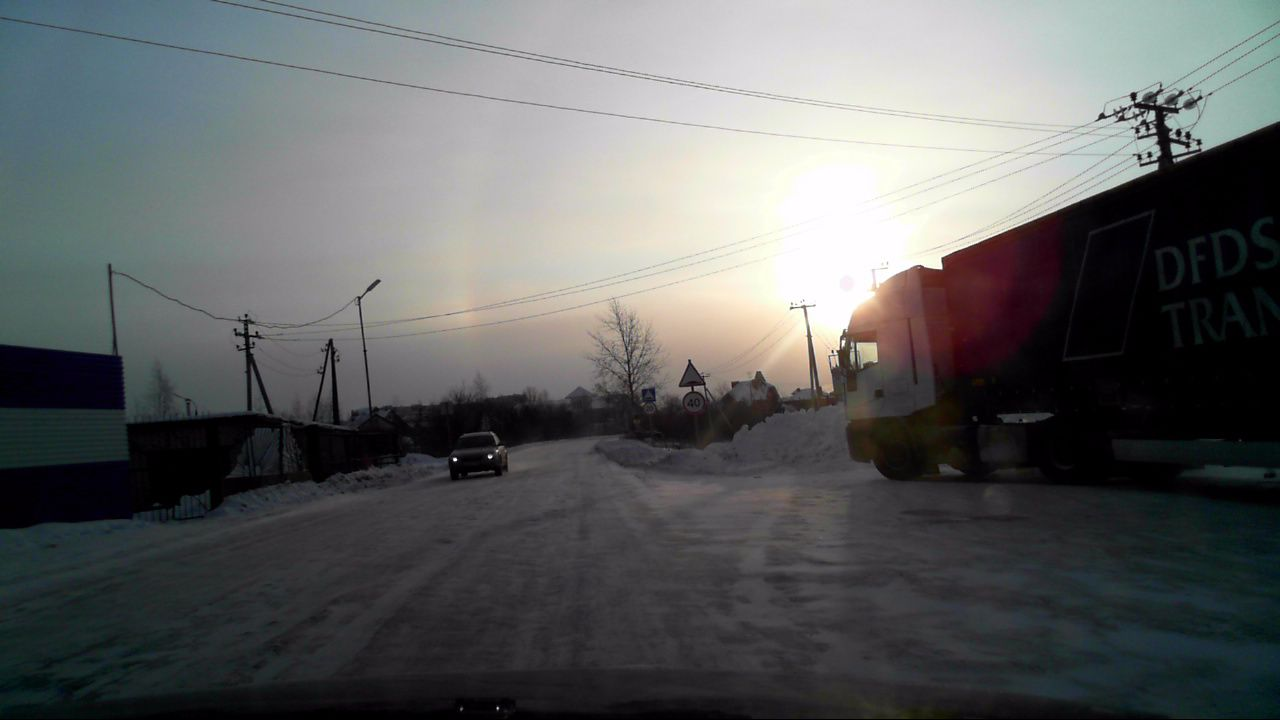speed_warning_40: (682, 391, 704, 413)
